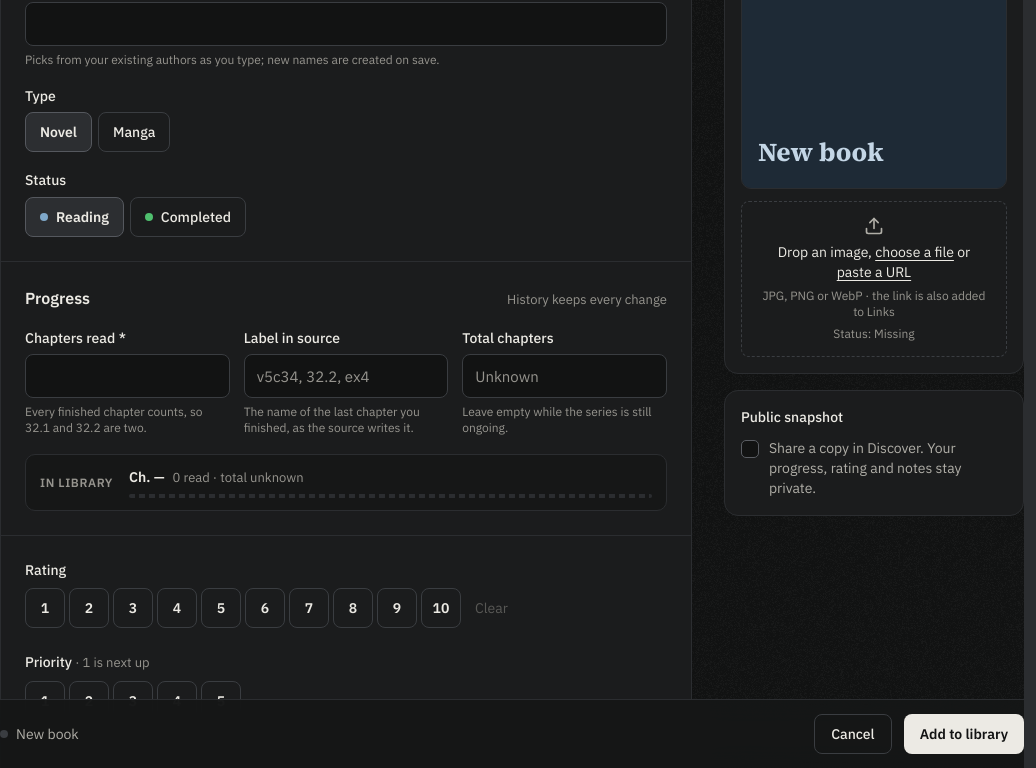
it: BookFormPage › normalizes the total chapters field while typing
(page scrolled)
In the field named "Total chapters": (565, 376) [462,354,667,398], type "4..5x"
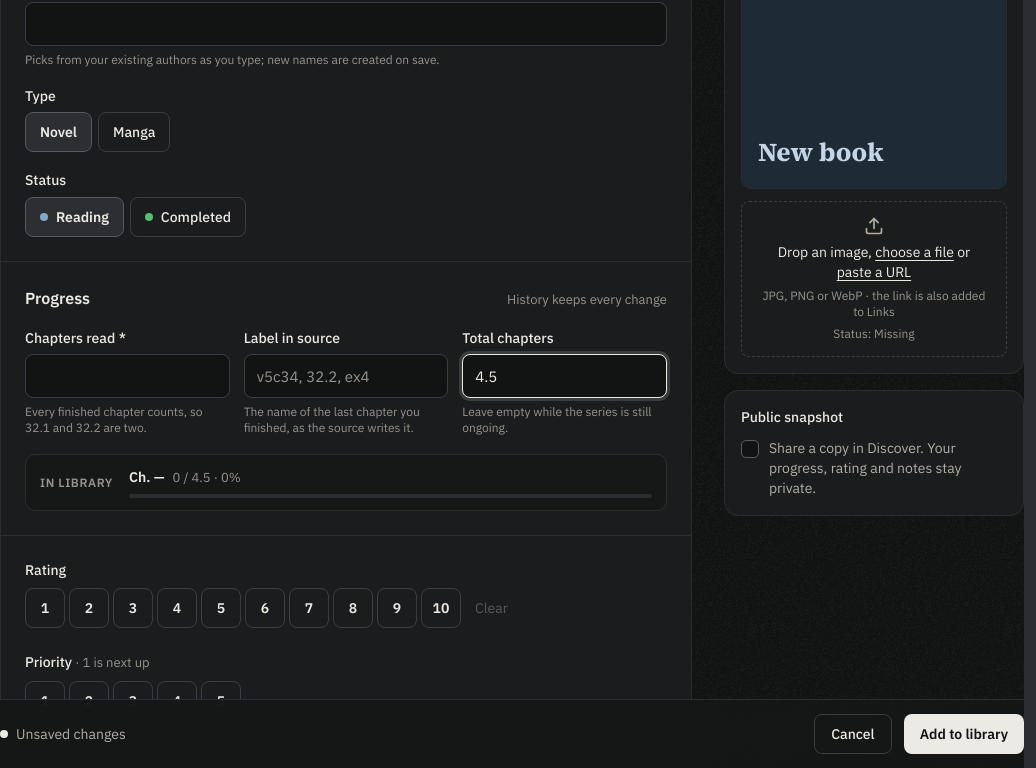
Result: the field named "Total chapters" holds "4.5" at [462,354,667,398]
